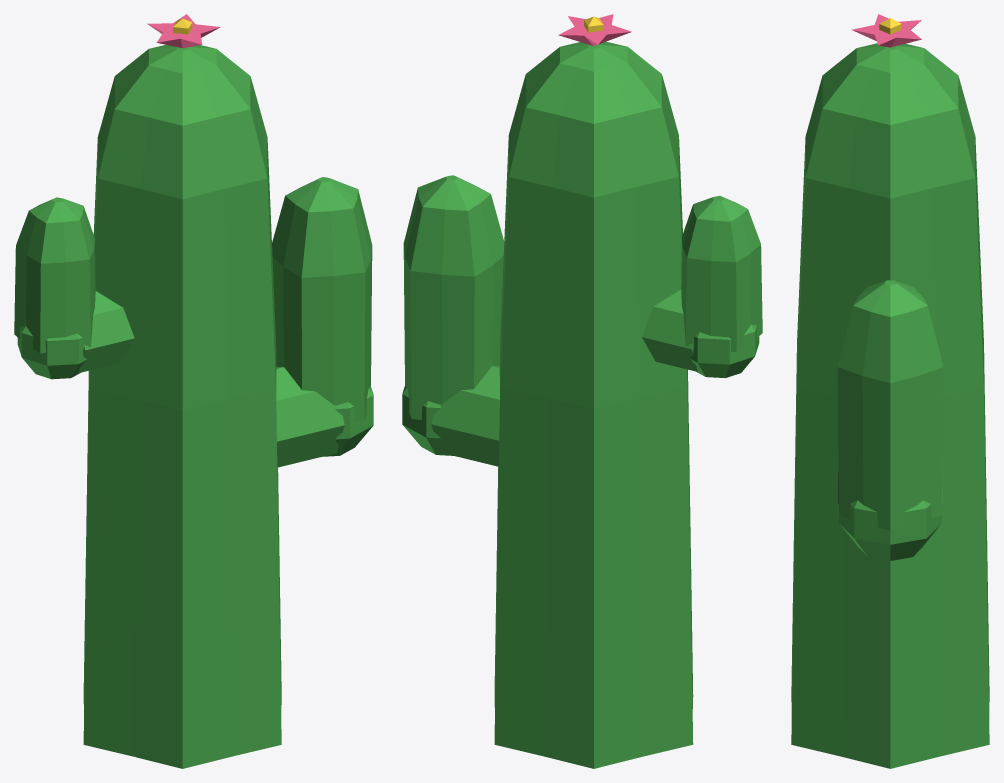
The model's file is cactus.glb.
The picture shows the model from 3 angles, left to right: view 1: azimuth 30°, elevation 25°; view 2: azimuth 150°, elevation 25°; view 3: azimuth 270°, elevation 25°; orthographic projection.
Parts seen in each view (by area): view 1: cactus-m; view 2: cactus-m; view 3: cactus-m.
Boxes of the visible parts, left/top/right/bottom form: cactus-m: left=14, top=14, right=373, bottom=768; cactus-m: left=402, top=14, right=762, bottom=768; cactus-m: left=791, top=14, right=989, bottom=768.
Size of the model in its own units: 1.24 by 2.37 by 0.6062.
